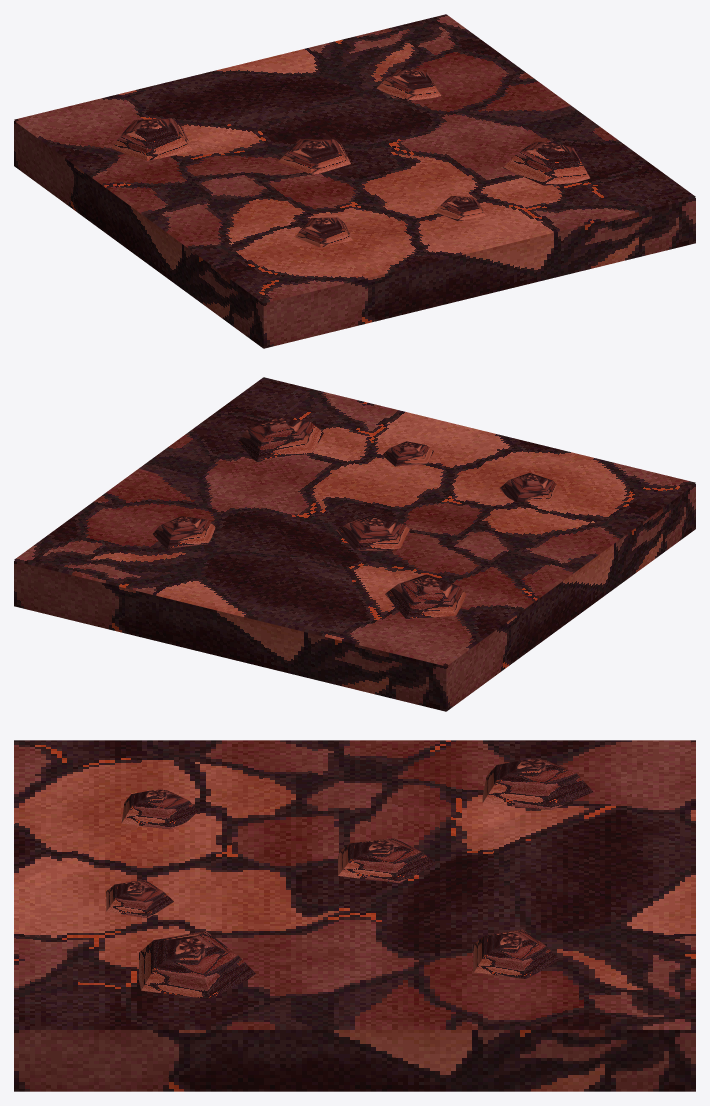
Rendered from terreno_caverna_inferno.glb.
3 renders of one model, top to bottom at view 1: azimuth 30°, elevation 25°; view 2: azimuth 150°, elevation 25°; view 3: azimuth 270°, elevation 25°, orthographic. The views are drawn at different scales.
Visible parts, largest first — view 1: terreno_caverna_inferno; view 2: terreno_caverna_inferno; view 3: terreno_caverna_inferno.
Part boxes in pixels (box(x1,y1,x2,y2)): terreno_caverna_inferno: box(14, 14, 695, 348); terreno_caverna_inferno: box(14, 377, 695, 711); terreno_caverna_inferno: box(14, 740, 695, 1091).
Bounding box in the file's own units: 2 × 0.3096 × 2.
Materials: 1 (1 with a texture image).
